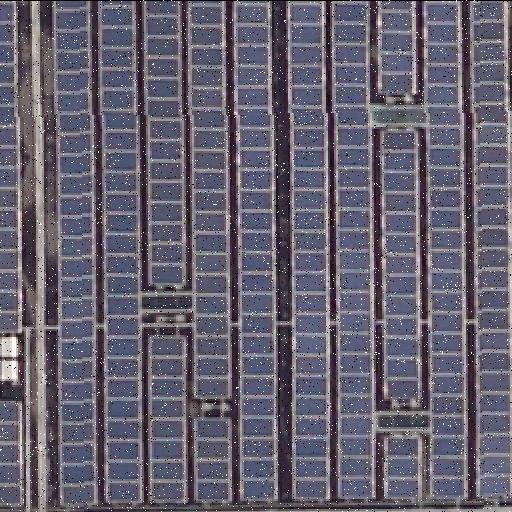solar-panel: (53, 0, 99, 506), (234, 0, 278, 504), (286, 1, 330, 503), (422, 0, 466, 500), (99, 0, 141, 506), (331, 1, 373, 503), (472, 0, 512, 500), (188, 0, 232, 400), (142, 0, 186, 288), (378, 130, 422, 402), (1, 1, 23, 335), (148, 335, 188, 505), (376, 0, 416, 96), (191, 417, 233, 503), (382, 435, 422, 501), (0, 401, 24, 511)
